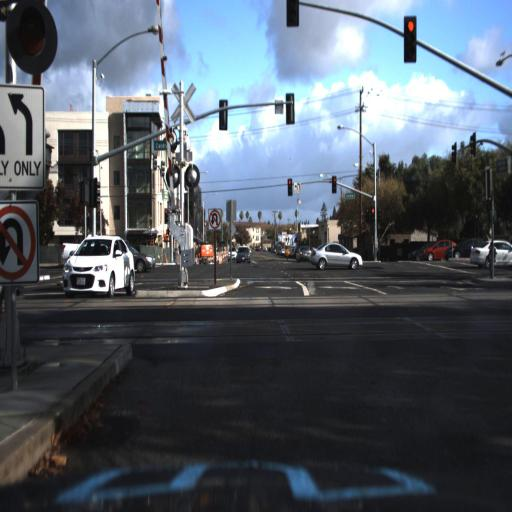car: (61, 236, 135, 300), (307, 243, 365, 273), (445, 235, 498, 264), (423, 236, 460, 265), (129, 236, 155, 276), (54, 236, 81, 262), (232, 240, 253, 266), (290, 243, 316, 263)
trafficLight: (10, 1, 54, 70), (285, 1, 300, 27)
trafficLight-Red: (403, 15, 418, 62), (330, 171, 339, 196), (370, 202, 377, 227), (286, 174, 293, 198)
